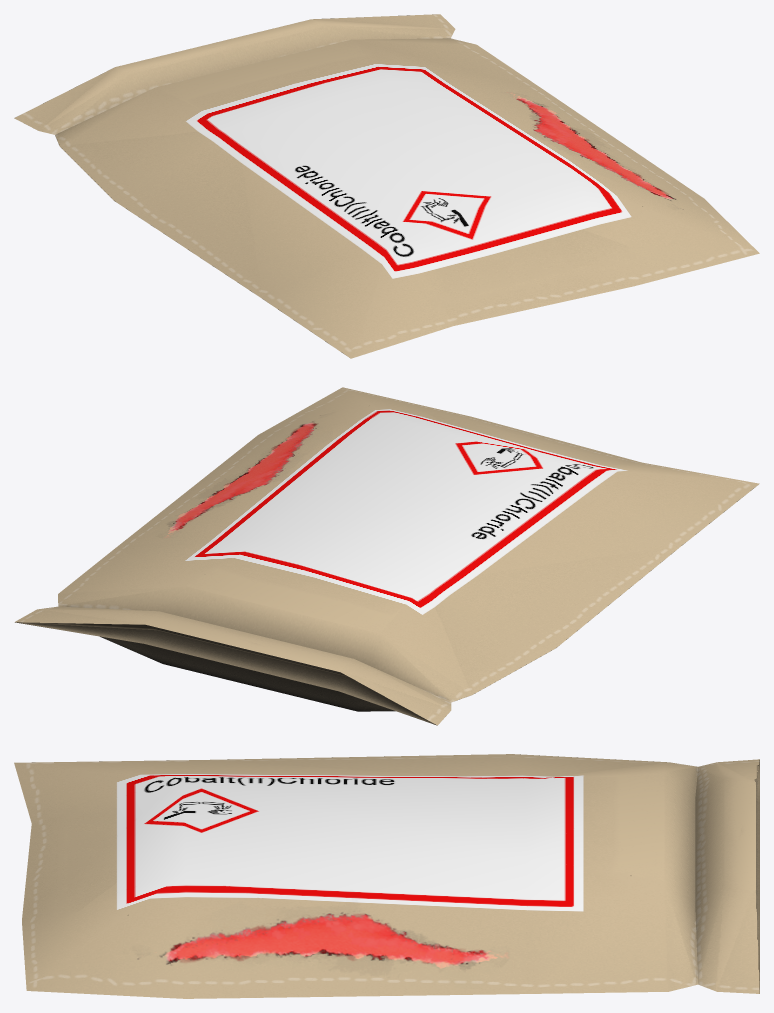
The model's file is cobaltIIChloride_False.fbx.
3 views of the same model, one above another, from view 1: azimuth 30°, elevation 25°; view 2: azimuth 150°, elevation 25°; view 3: azimuth 270°, elevation 25° (orthographic). The views are drawn at different scales.
Visible parts, largest first — view 1: cobaltIIChloride_False; view 2: cobaltIIChloride_False; view 3: cobaltIIChloride_False.
Boxes of the visible parts, x1,y1,x2,y2 form: cobaltIIChloride_False: (14, 14, 759, 358); cobaltIIChloride_False: (14, 387, 759, 725); cobaltIIChloride_False: (14, 754, 759, 998).
Size of the model in its own units: 0.304 by 0.0646 by 0.3913.
Materials: 1 (1 with a texture image).
